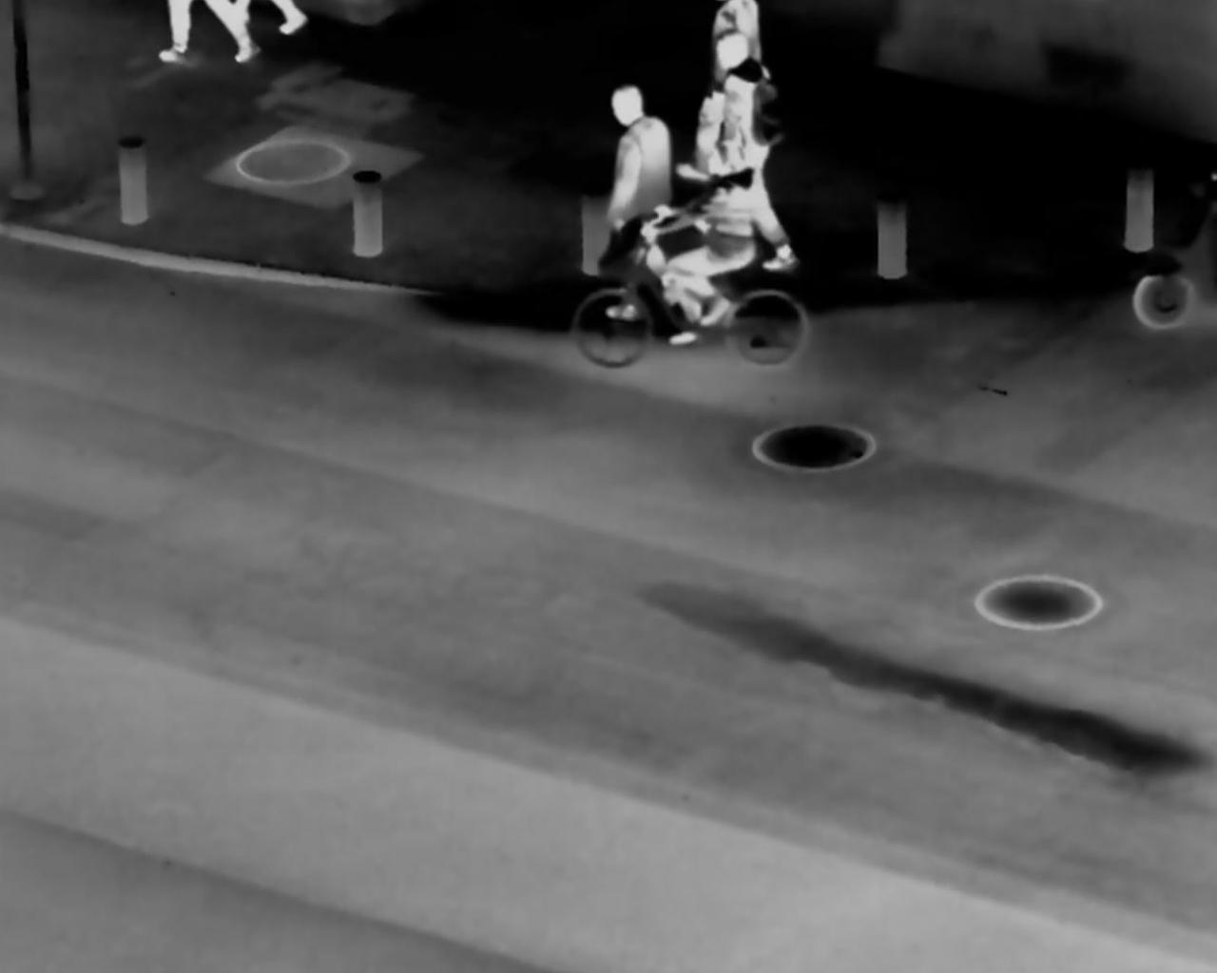person: (711, 32, 820, 283), (663, 132, 761, 358), (585, 74, 686, 267)
